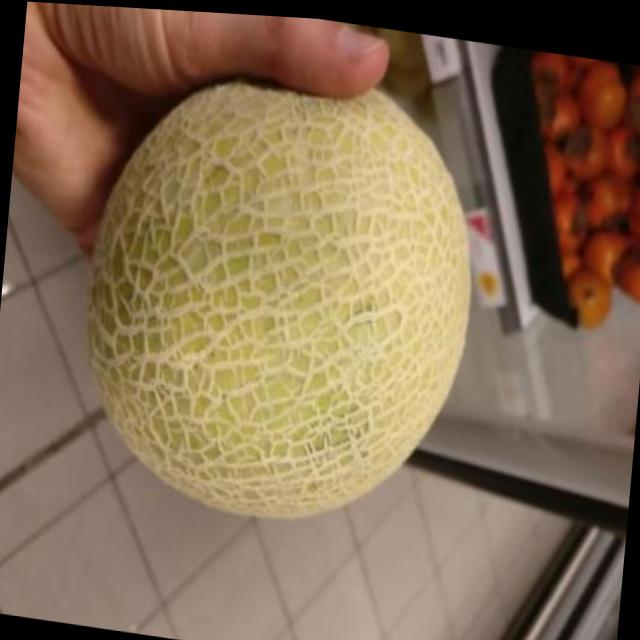Cantaloupe: (68, 48, 486, 547)
